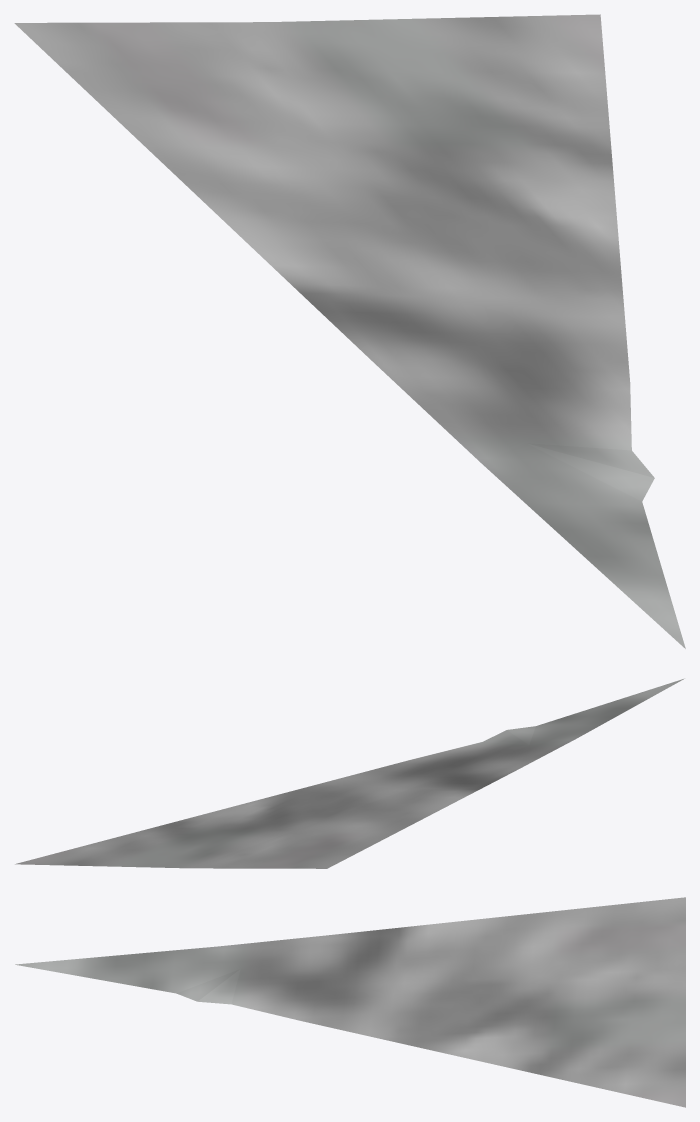
3 views of the same model, one above another, from view 1: azimuth 30°, elevation 25°; view 2: azimuth 150°, elevation 25°; view 3: azimuth 270°, elevation 25° (orthographic). The views are drawn at different scales.
Size of the model in its own units: 0.1109 by 0.0243 by 0.2201.
1 material, 1 textured.
